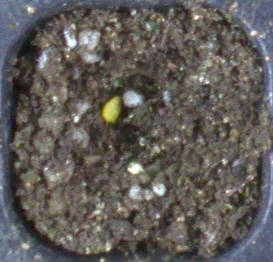chilli seed: (102, 96, 122, 122)
